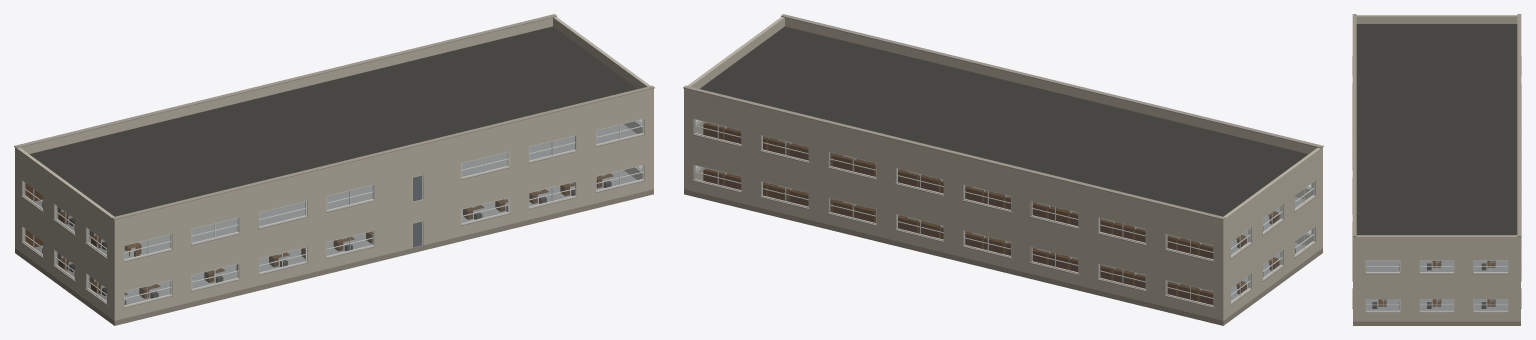
Rendered from barracks.glb.
3 views of the same model, side by side, from view 1: azimuth 30°, elevation 25°; view 2: azimuth 150°, elevation 25°; view 3: azimuth 270°, elevation 25° (orthographic). The views are drawn at different scales.
Visible parts, largest first — view 1: LOD0, FURN; view 2: LOD0, FURN; view 3: LOD0, FURN.
Boxes of the visible parts, bbox=[...] form: LOD0: bbox=[14, 14, 654, 325]; FURN: bbox=[25, 173, 613, 304]; LOD0: bbox=[683, 14, 1323, 325]; FURN: bbox=[703, 122, 1295, 304]; LOD0: bbox=[1352, 14, 1521, 325]; FURN: bbox=[1372, 260, 1495, 308].
Size of what is drawn, in the model's own units: 50.12 by 9.48 by 16.12.
